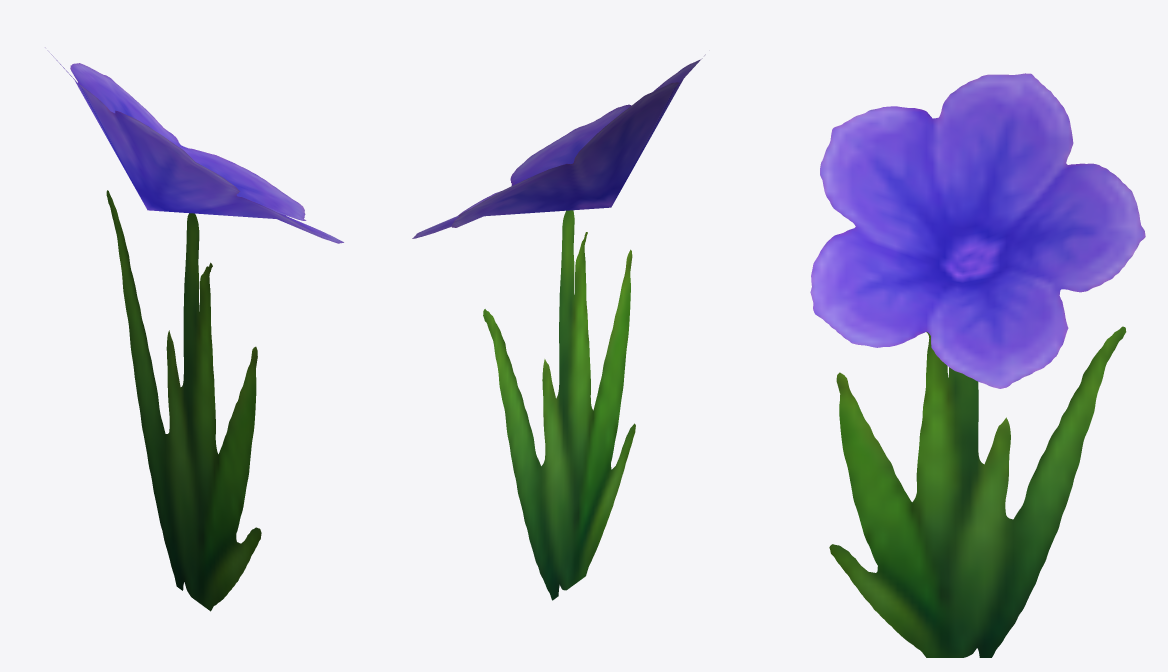
Rendered from flower_03.FBX.
3 renders of one model, left to right at view 1: azimuth 30°, elevation 25°; view 2: azimuth 150°, elevation 25°; view 3: azimuth 270°, elevation 25°, orthographic. The views are drawn at different scales.
Parts seen in each view (by area): view 1: Plane019; view 2: Plane019; view 3: Plane019.
Part boxes in pixels (x1,y1,x2,y2): Plane019: (45,47,343,611); Plane019: (412,54,705,600); Plane019: (810,73,1145,657).
Size of the model in its own units: 0.4087 by 0.7619 by 0.462.
